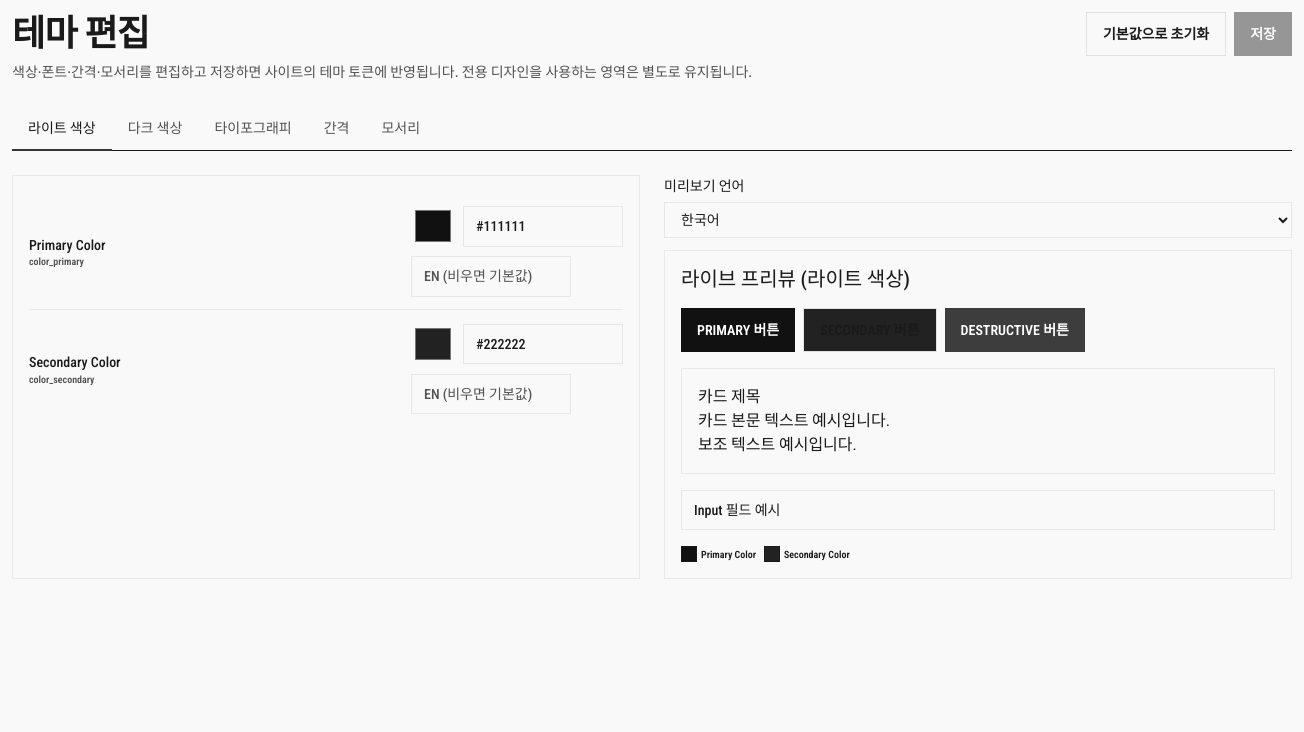
Scenario: ThemeEditor › keeps the color picker in sync for #12345680
Replace the text in the field named "Primary Color 값" with "#12345680" at (543, 226), box [463,206,623,247]
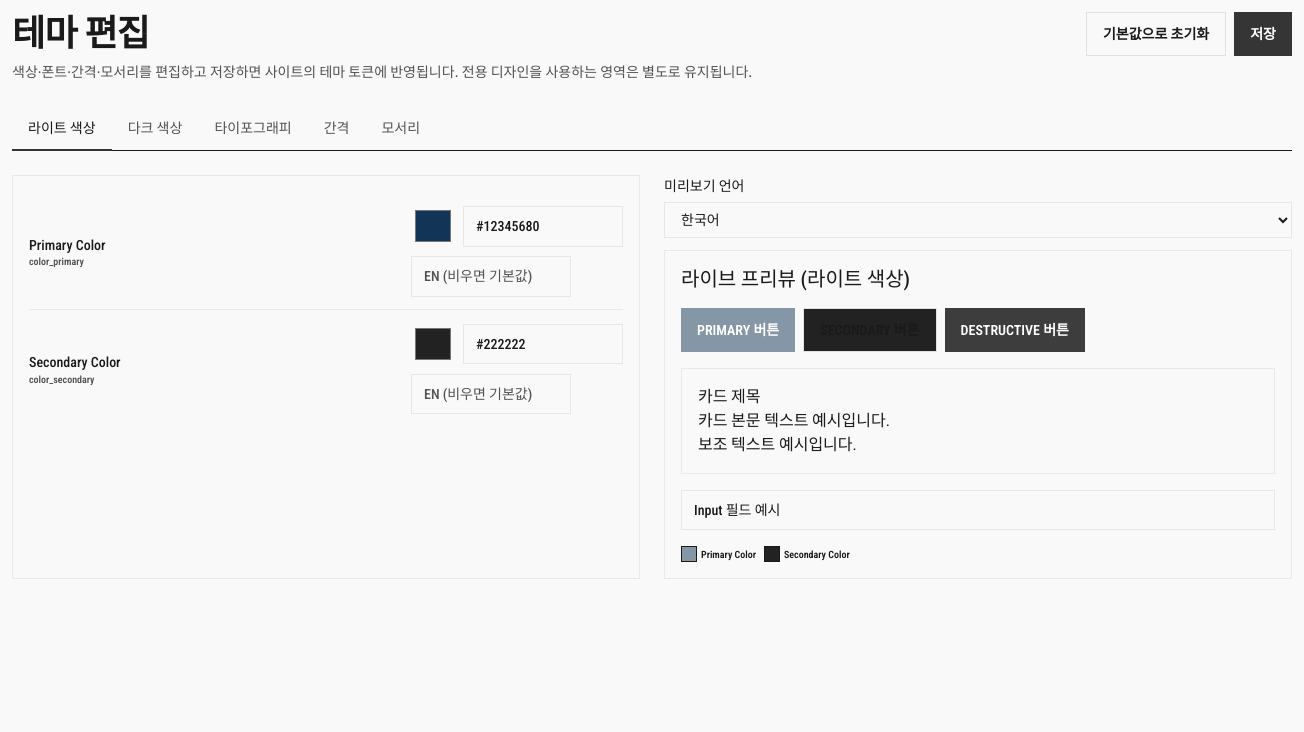
Expected: the colour field named "Primary Color" holds "#123456", [411,204,455,248]
